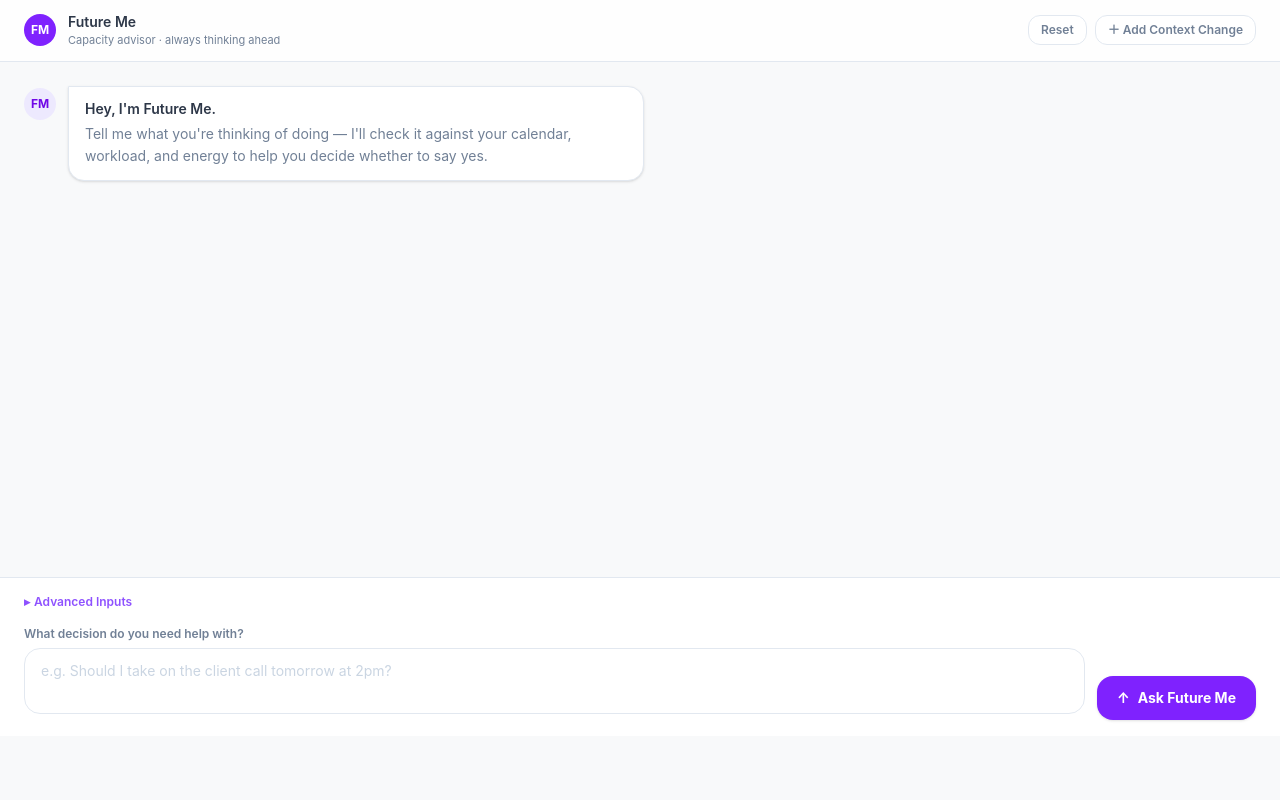
DecisionsPage - RECOMMEND › submits unresolved fields and renders ABSTAIN when skipping clarification
Step 1. Type "Should I work?" into the text box labelled "What decision do you need help with?" → x=554, y=681, box [24,648,1085,714]
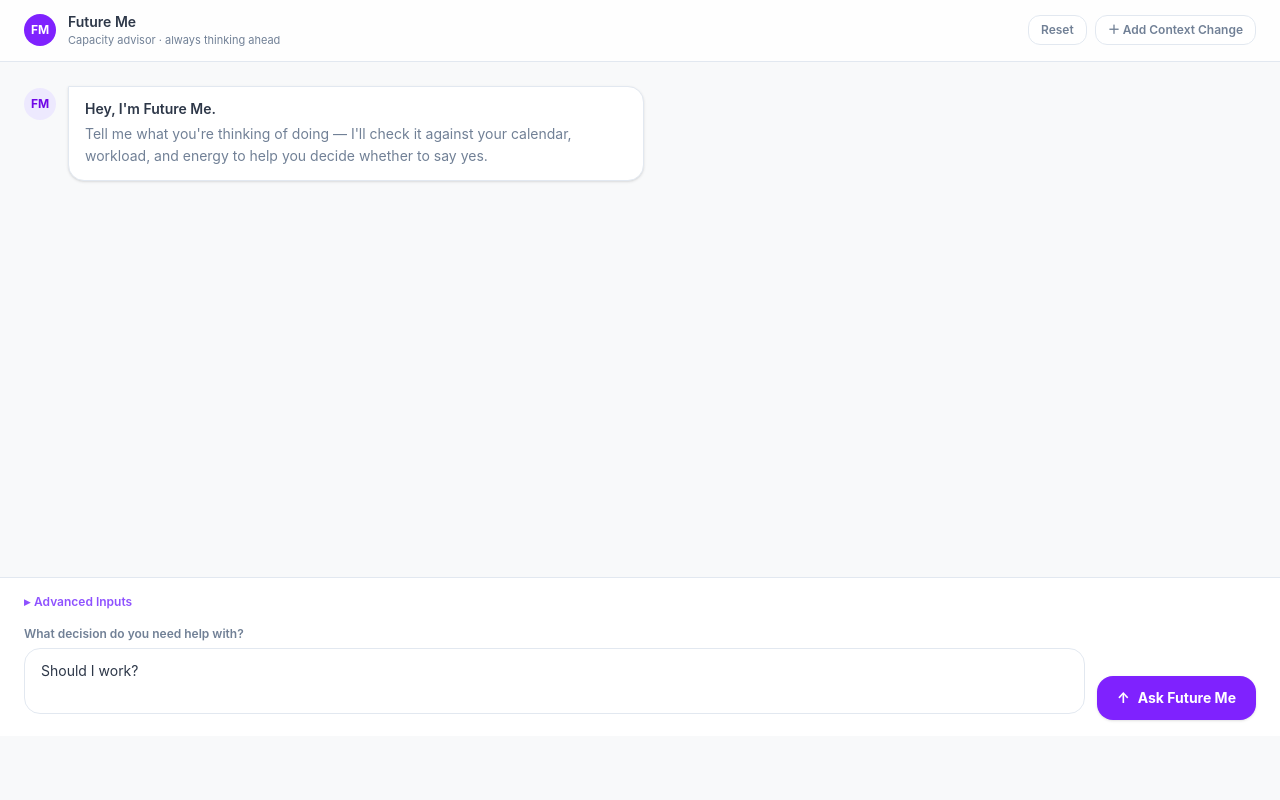
Step 2. Click the button "↑ Ask Future Me" → x=1176, y=698, box [1097,676,1256,720]
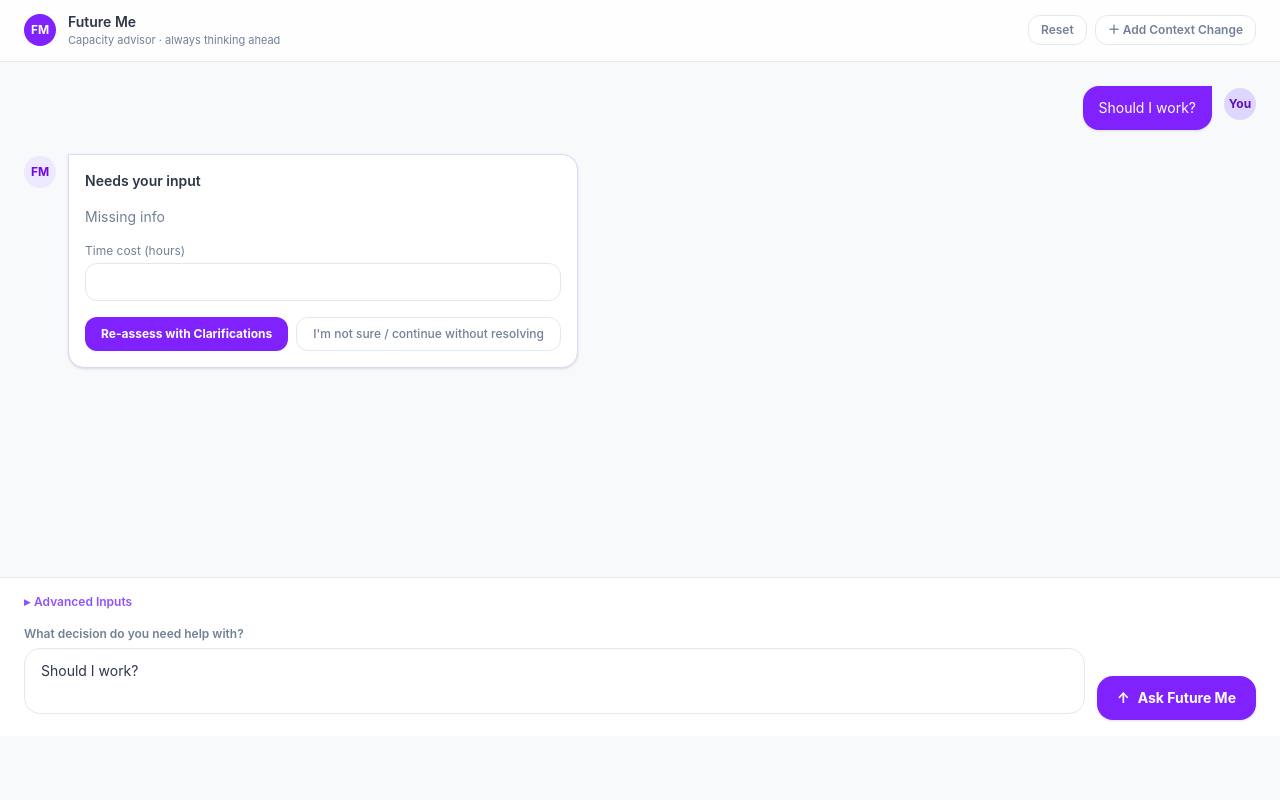
Expected: the text "Needs your input" is shown, [85,172,201,188]
Step 3. Click the button "I'm not sure / continue without resolving" → x=429, y=334, box [296,316,561,350]
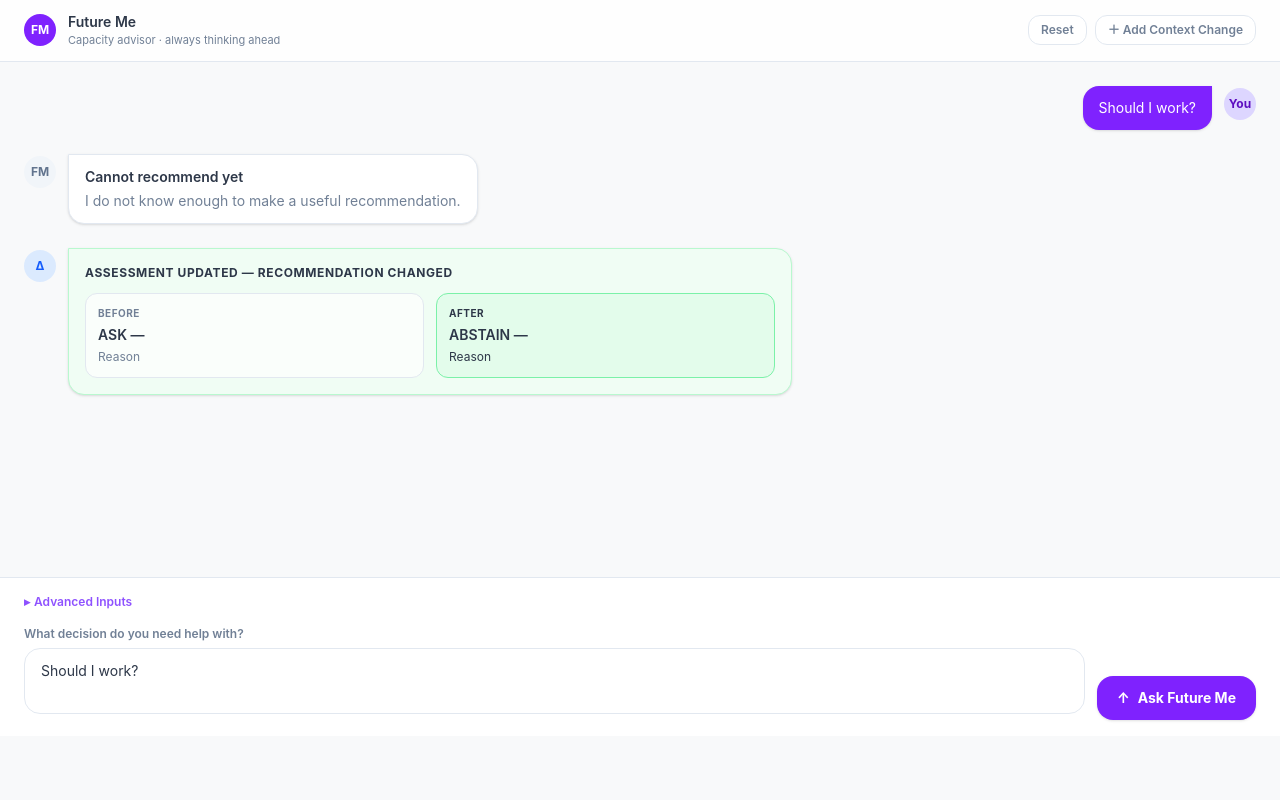
Expected: the text "I do not know enough to make a useful recommendation." is shown, [85,190,461,210]
